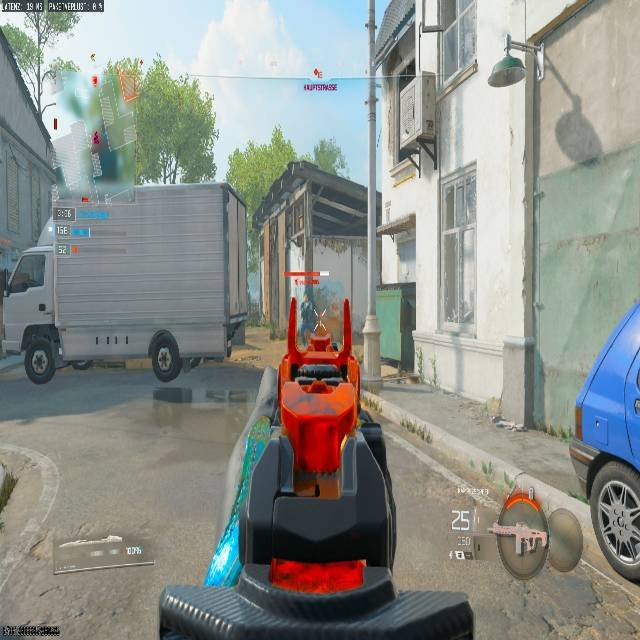player: (296, 289, 323, 340)
